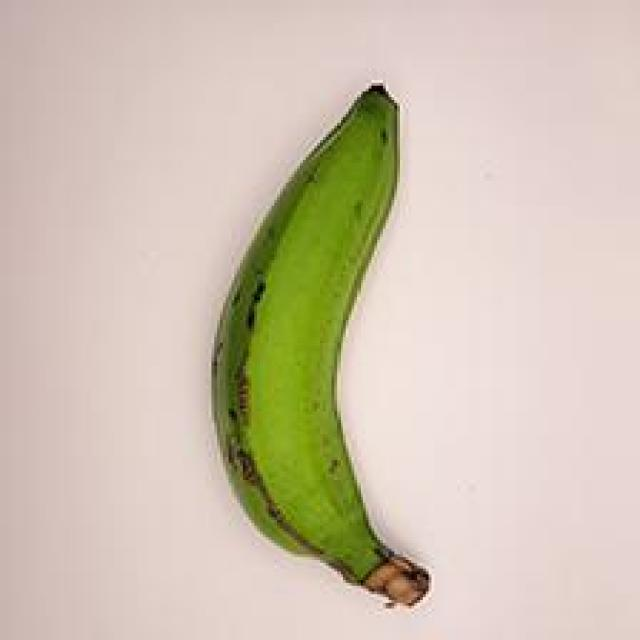Raw: (176, 72, 472, 632)
